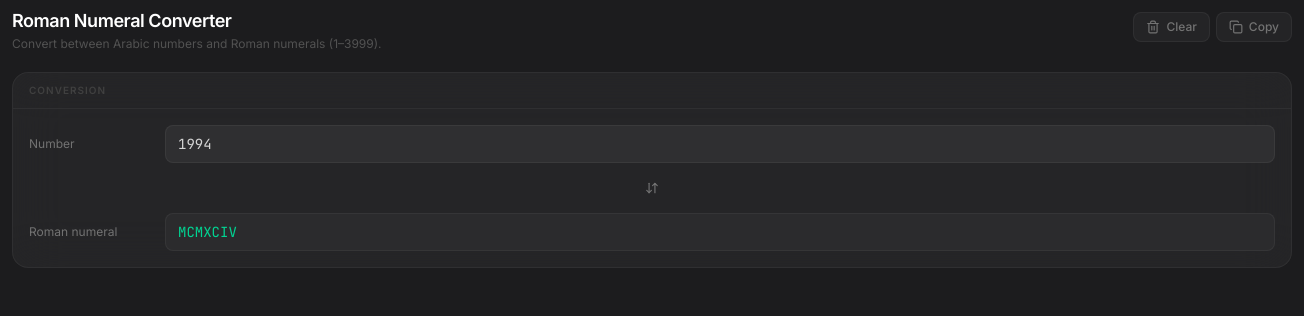
it: RomanNumeralConverterTool › shows an error for an invalid Roman numeral
The width and height of the screenshot is (1304, 316).
Click the button named "Swap direction".
click(652, 188)  # box left=639, top=175, right=665, bottom=201
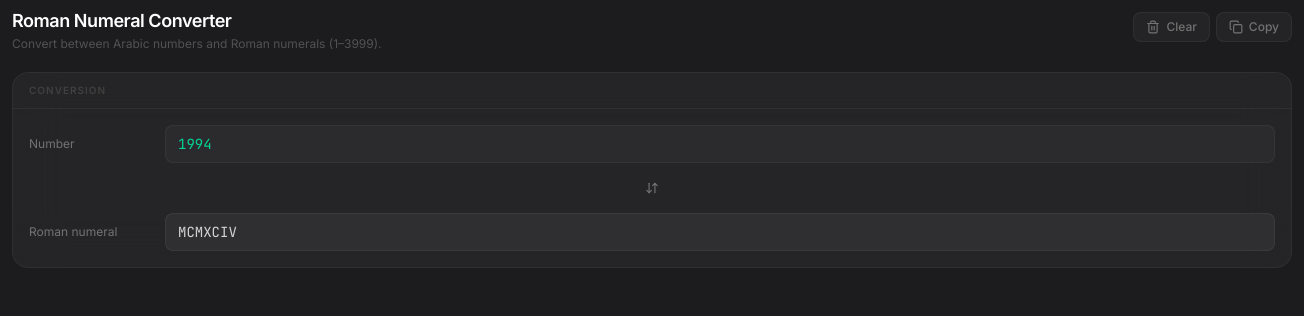
Type "IIII" into the field labelled "Roman numeral".
click(720, 232); type("IIII")  # box left=165, top=213, right=1275, bottom=251
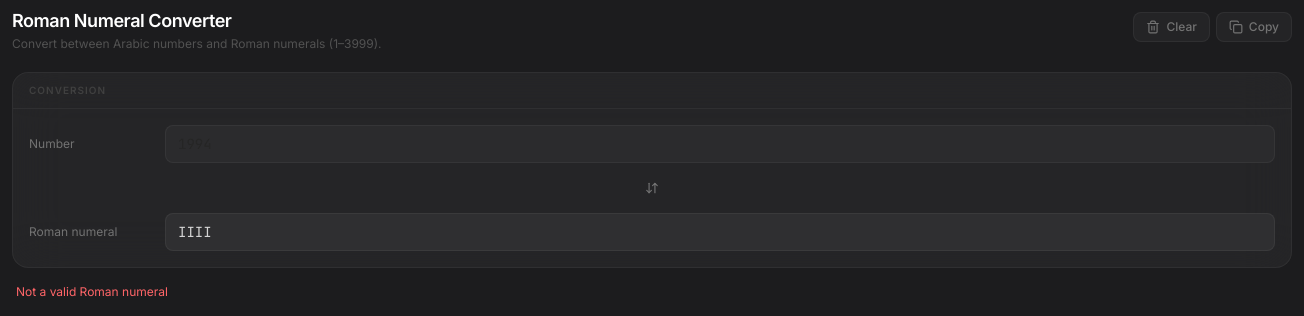
Result: the text "Not a valid Roman numeral" is shown at left=16, top=284, right=168, bottom=299
